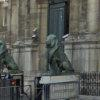Statue: (38, 21, 76, 79)
